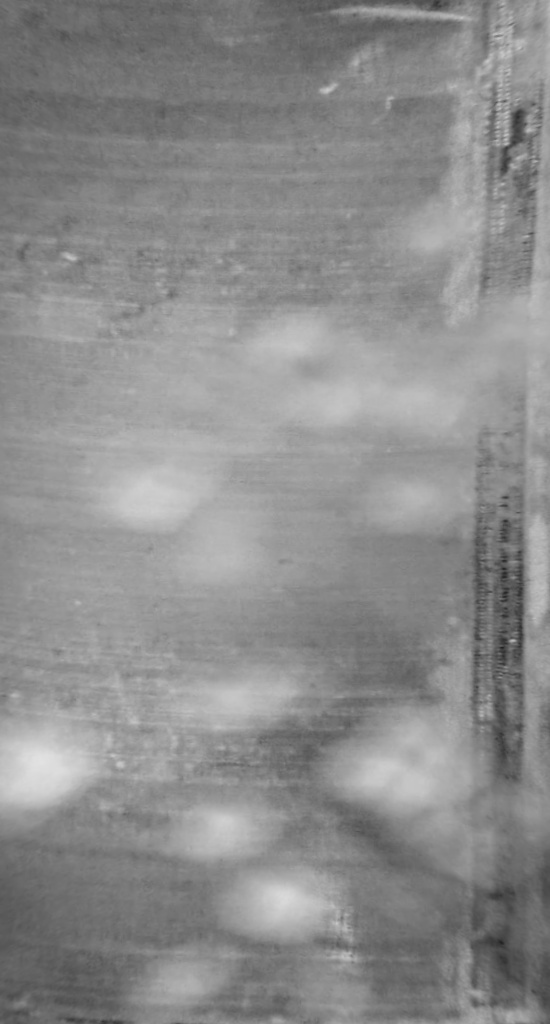splice: (451, 1, 548, 1021)
